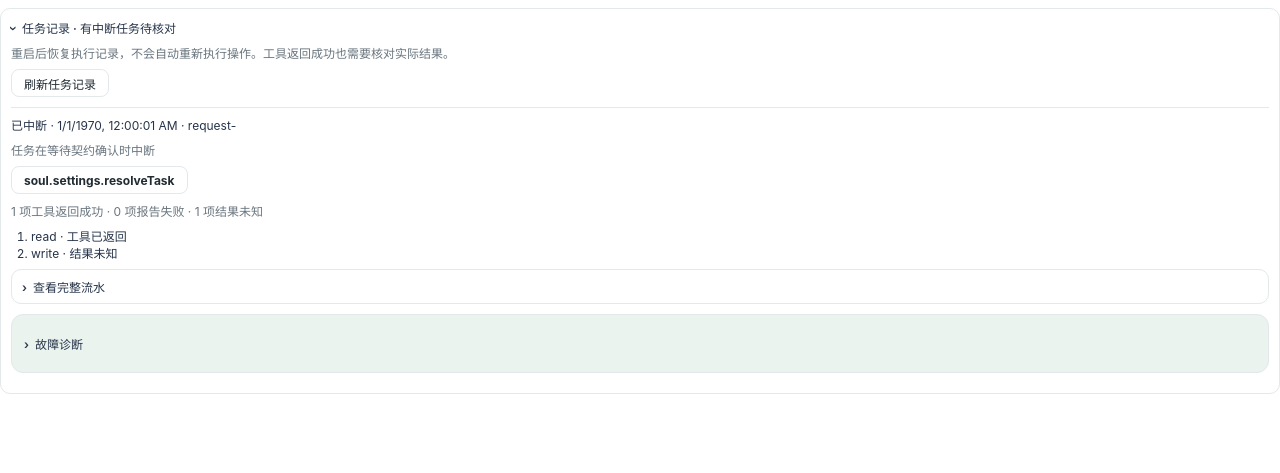
Test: 契约等待中断的恢复（doc 18 §9） › loads the archived step ledger for a history record
The image size is (1280, 473).
Click the heading "查看完整流水" at (69, 288), box [33, 280, 105, 295]
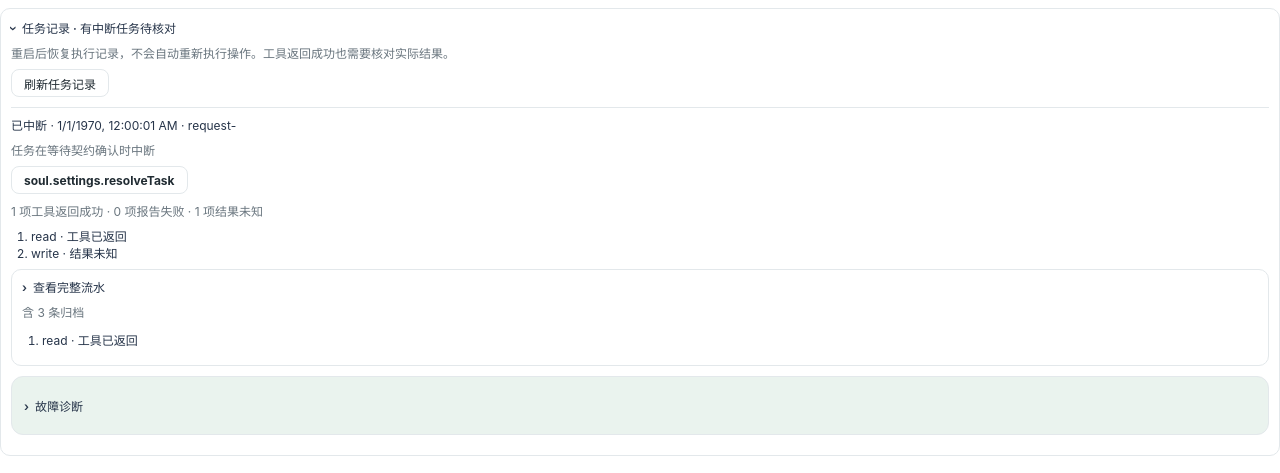
Expected: the text "含 3 条归档" is shown, [22, 305, 84, 320]
